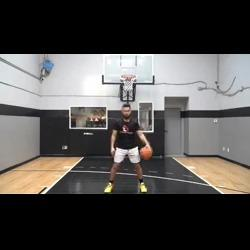BasketBall: (138, 144, 153, 160)
